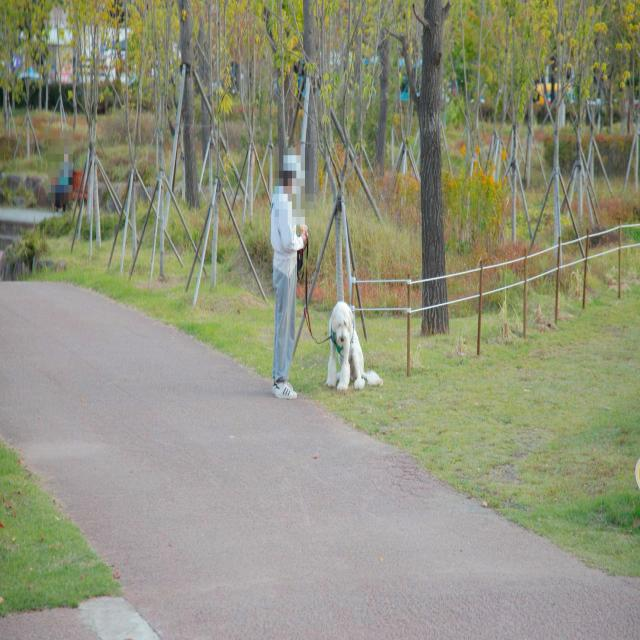Leashed_Dog: (288, 230, 382, 394)
